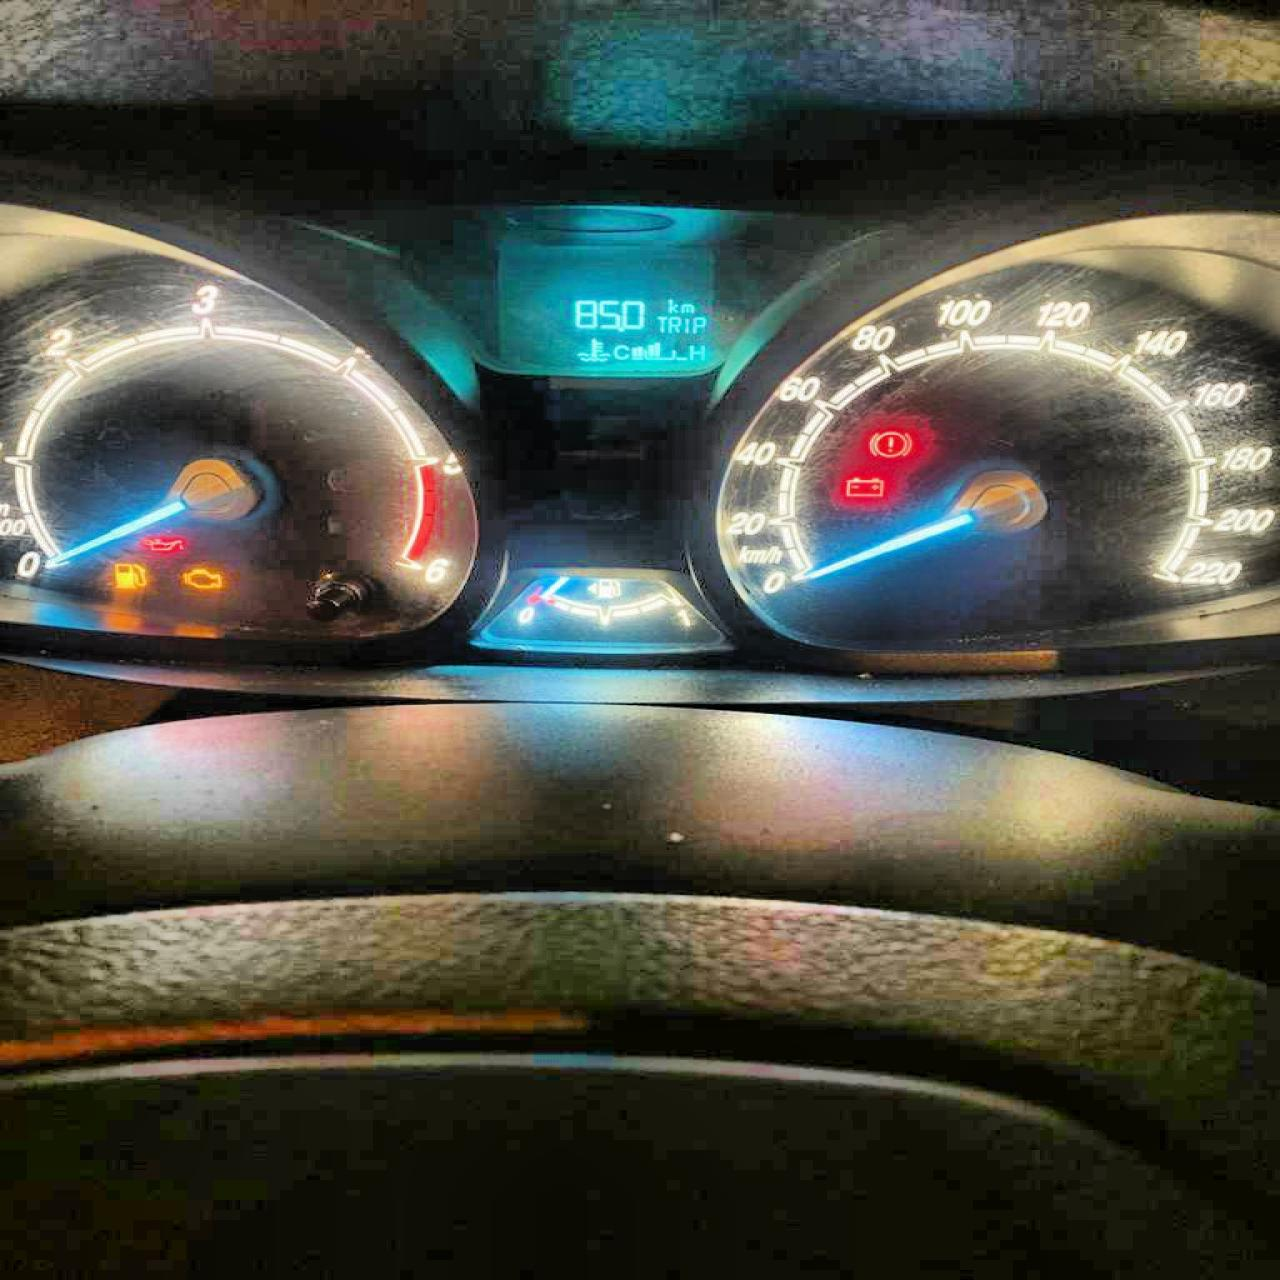-: (617, 324, 625, 334)
0: (621, 298, 644, 328)
5: (597, 298, 620, 327)
8: (572, 298, 597, 328)
X: (687, 342, 706, 360), (612, 342, 628, 361), (690, 313, 704, 333), (667, 315, 680, 334), (653, 313, 665, 333), (665, 298, 679, 313), (680, 301, 693, 313), (682, 315, 690, 333)
odometer: (493, 267, 723, 372)
